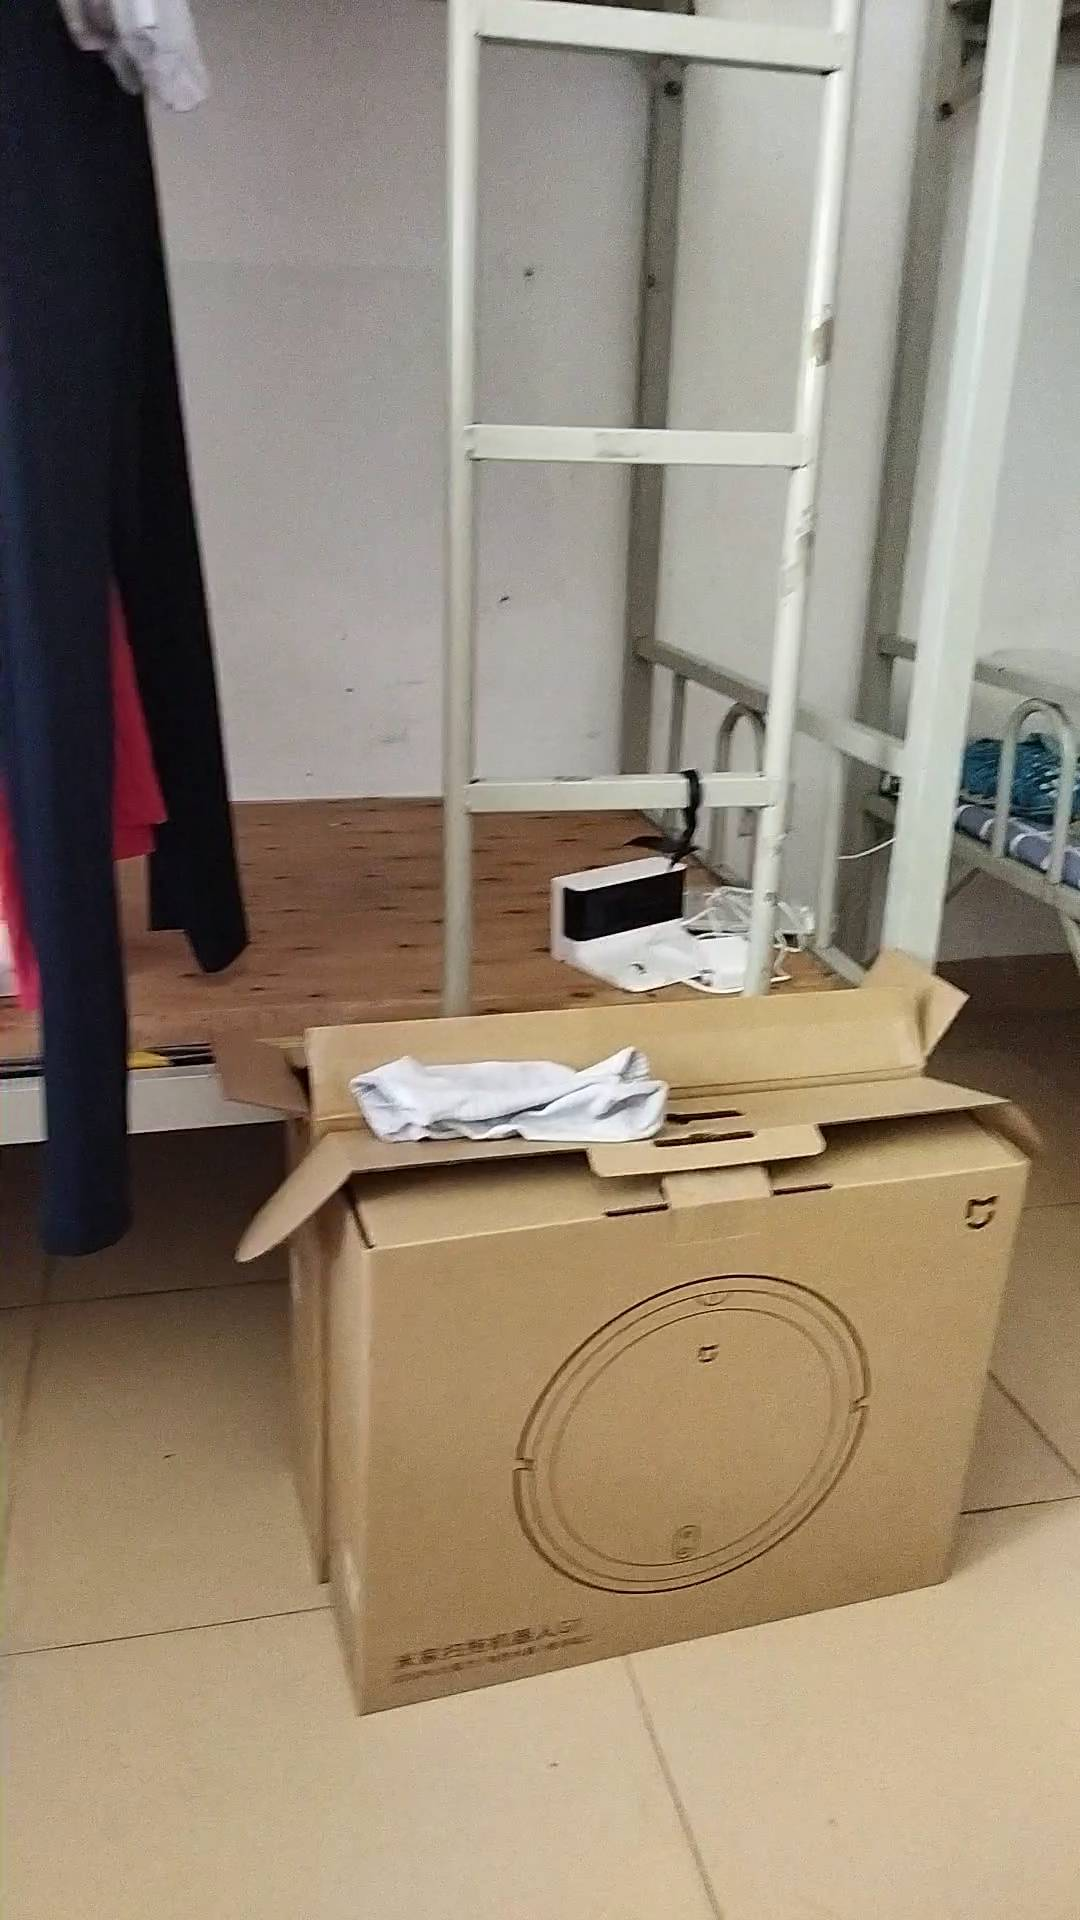recharge seat: (555, 858, 725, 993)
